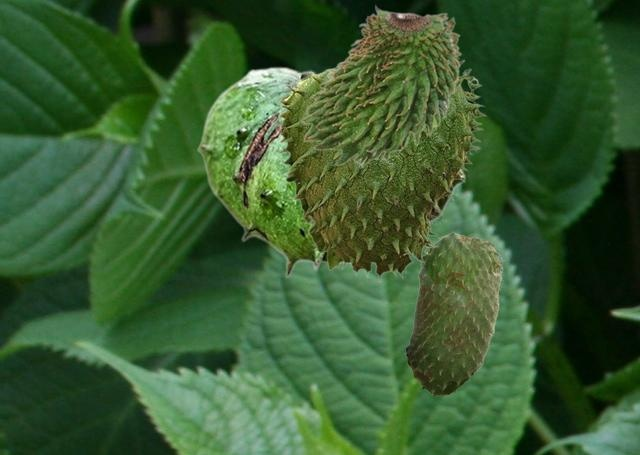guyabano: (197, 66, 465, 277), (278, 57, 486, 282), (300, 4, 461, 165), (404, 231, 503, 397)
